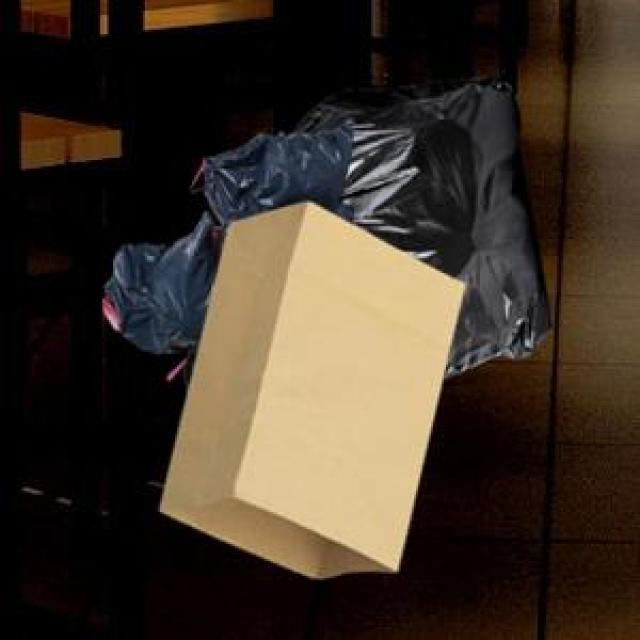miscellaneous trash: (290, 66, 546, 373), (100, 115, 349, 386)
paper: (156, 198, 461, 574)
